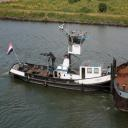tugboat: (9, 30, 118, 99)
